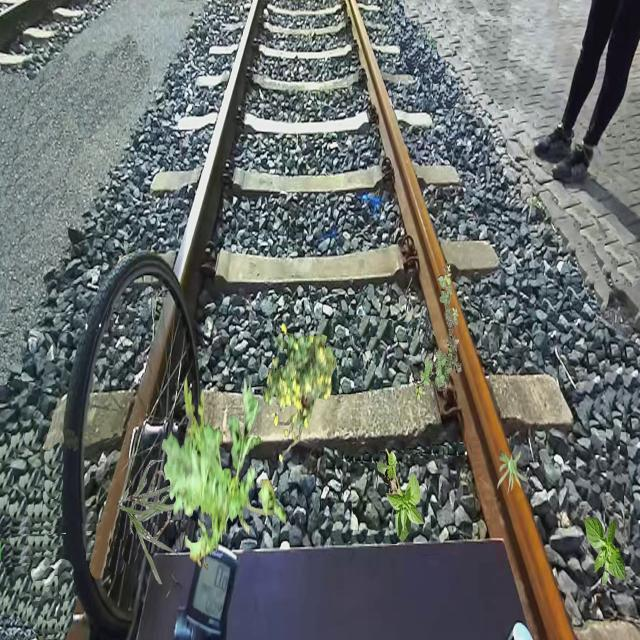Plant: (162, 374, 287, 570), (263, 323, 338, 463), (117, 460, 190, 584), (413, 264, 462, 402), (377, 448, 425, 543), (584, 515, 626, 586), (497, 450, 530, 496)
